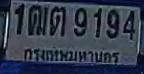1: (14, 3, 24, 34), (93, 8, 101, 36)
4: (122, 10, 134, 39)
9: (106, 8, 119, 38), (73, 7, 86, 36)
A18: (27, 4, 48, 35)
A21: (49, 6, 65, 35)
BKK: (21, 45, 122, 65)
